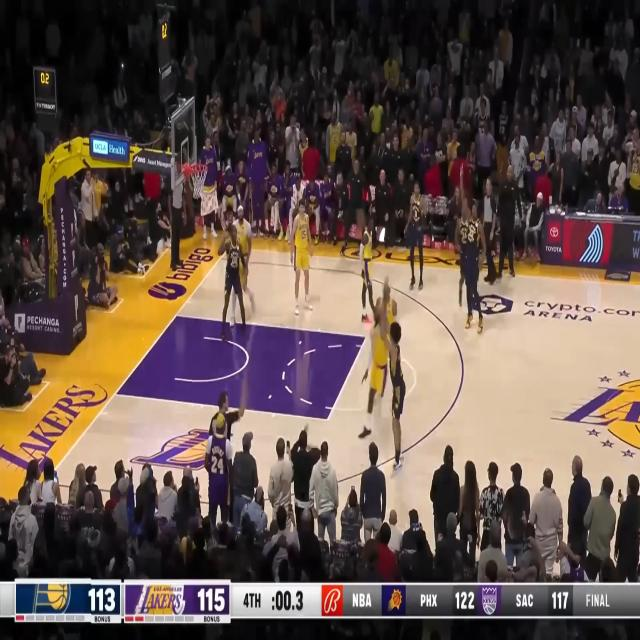Ball: (355, 209, 367, 229)
Clock: (34, 67, 56, 101), (159, 16, 170, 70)
Hoop: (189, 163, 208, 200)
Overlay: (0, 578, 640, 622)
Player: (376, 275, 406, 477), (358, 272, 391, 440), (459, 165, 487, 334), (218, 222, 247, 346), (230, 204, 256, 326), (403, 180, 428, 290), (290, 198, 313, 315), (373, 281, 398, 388), (454, 202, 474, 306), (359, 218, 378, 322)
Ref: (207, 364, 249, 528), (168, 164, 187, 272), (483, 177, 499, 284)
Scoreboard: (15, 579, 321, 622)
